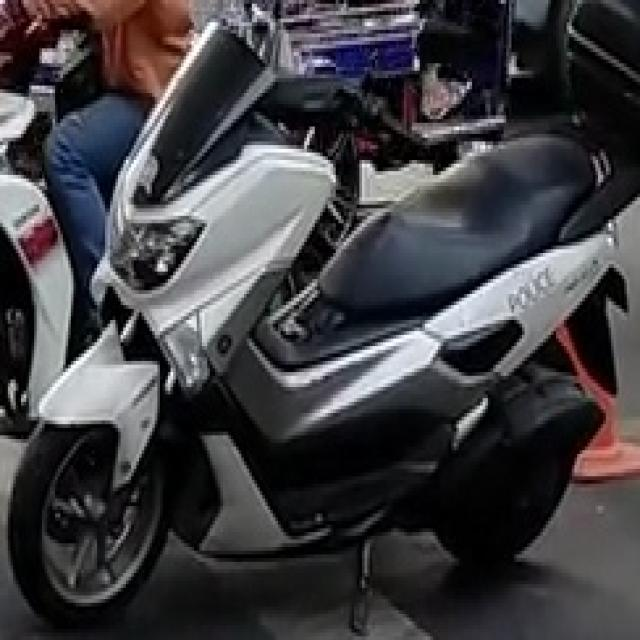door: (5, 0, 638, 629)
tyre: (6, 413, 170, 625)
